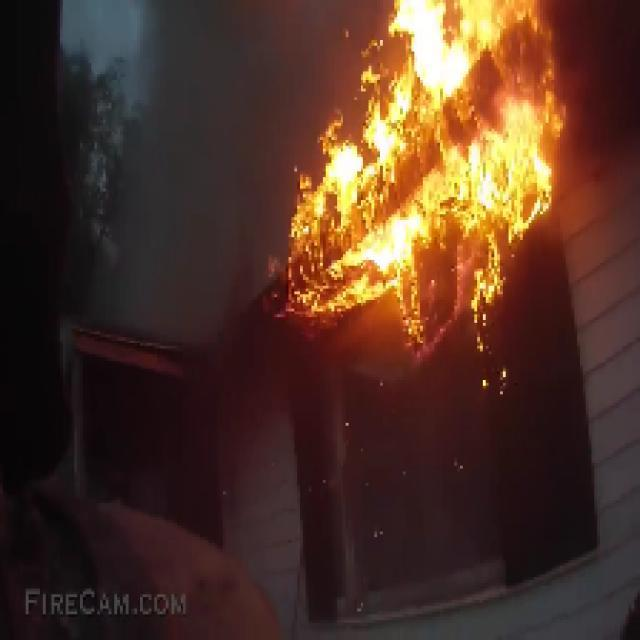Fire: (263, 2, 572, 358)
Smoke: (83, 2, 386, 348)
